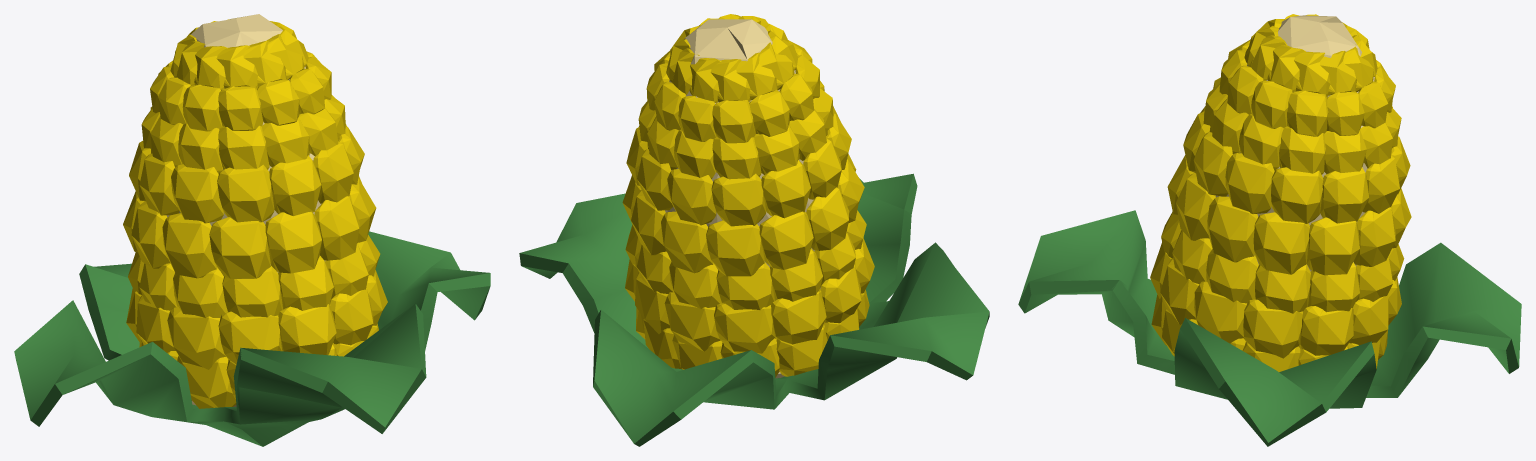
3 renders of one model, left to right at view 1: azimuth 30°, elevation 25°; view 2: azimuth 150°, elevation 25°; view 3: azimuth 270°, elevation 25°, orthographic. The views are drawn at different scales.
Visible parts, largest first — view 1: polySurface15; view 2: polySurface15; view 3: polySurface15.
Part boxes in pixels (box(x1,y1,x2,y2)): polySurface15: box(14, 14, 490, 446); polySurface15: box(519, 14, 989, 446); polySurface15: box(1018, 14, 1521, 446).
Size of the model in its own units: 554 by 474 by 551.
